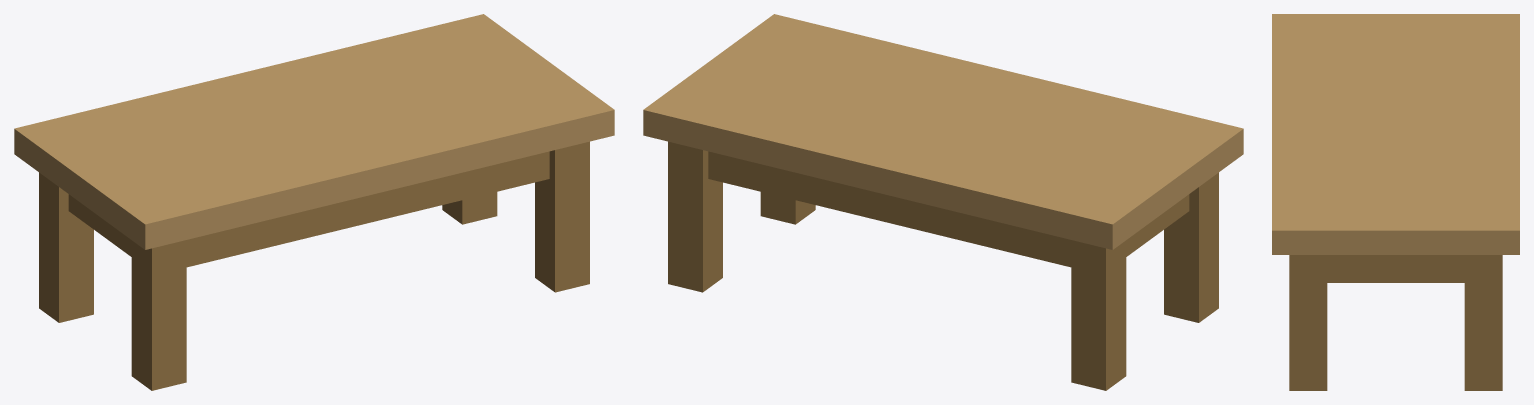
The model's file is Table_3.fbx.
3 views of the same model, side by side, from view 1: azimuth 30°, elevation 25°; view 2: azimuth 150°, elevation 25°; view 3: azimuth 270°, elevation 25° (orthographic). The views are drawn at different scales.
Visible parts, largest first — view 1: polySurface2097; view 2: polySurface2097; view 3: polySurface2097.
Part boxes in pixels (x1=…): polySurface2097: x1=14, y1=14, x2=614, y2=390; polySurface2097: x1=643, y1=14, x2=1243, y2=390; polySurface2097: x1=1272, y1=14, x2=1519, y2=390.
Size of the model in its own units: 1.35 by 0.4843 by 0.65.
Materials: 1 (1 with a texture image).
